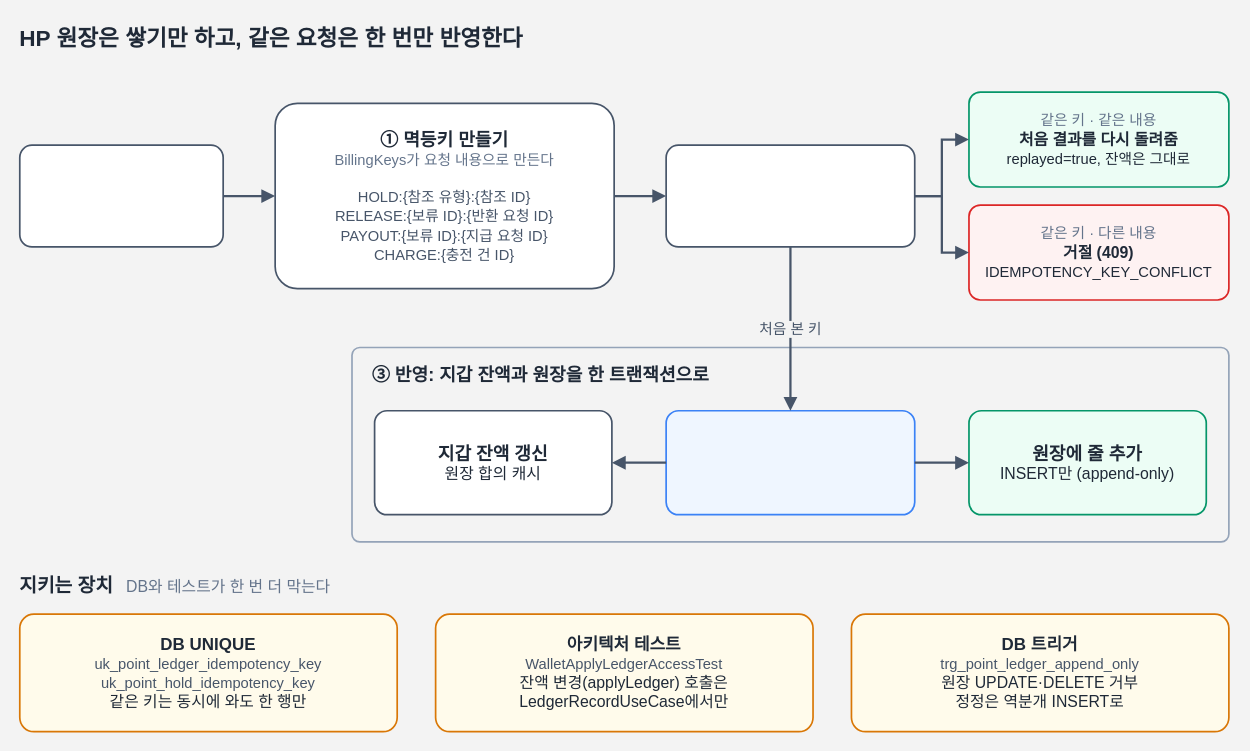
Some shapes in this 1250 by 751 pixel diagram are drawn without their labels. The shapes that lost their labels are listed below. From the top down, each one's centre as x and y in pixels, then its label:
At (121,195): "HP 요청 보류·반환·지급·충전 등".
At (790,195): "② 같은 키의 기록 찾기 지갑을 잠근 뒤 조회".
At (790,462): "LedgerRecordUseCase 잔액을 바꾸는 유일한 경로".
